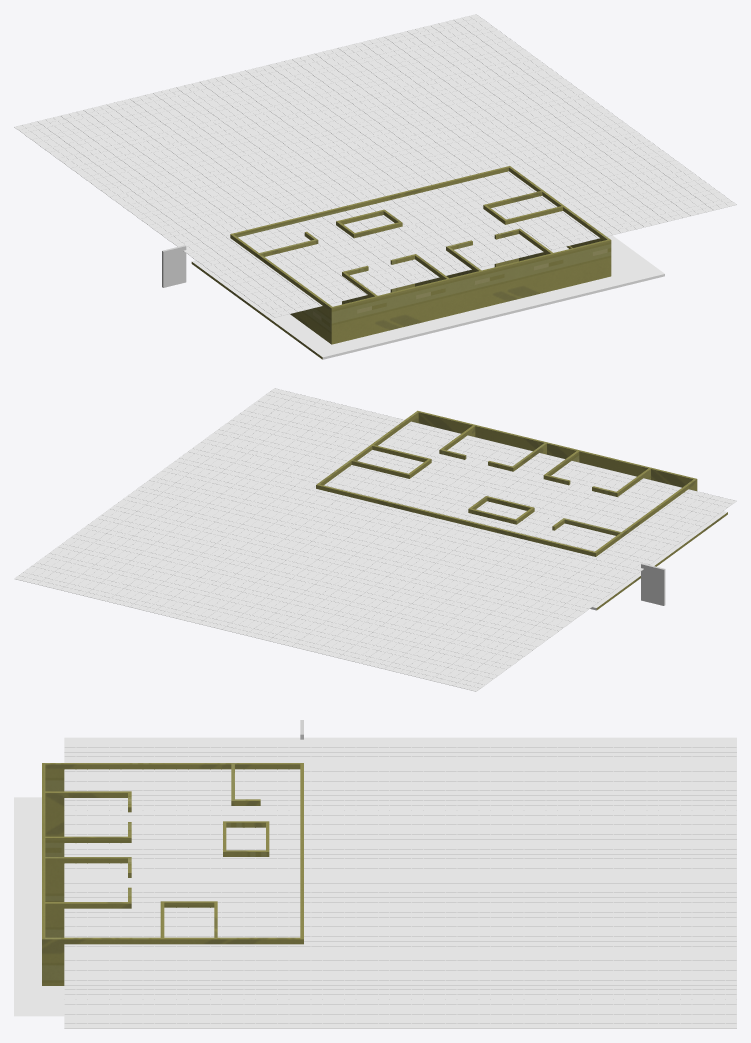
Rendered from backroom00.glb.
The picture shows the model from 3 angles, top to bottom: view 1: azimuth 30°, elevation 25°; view 2: azimuth 150°, elevation 25°; view 3: azimuth 270°, elevation 25°; orthographic projection. The views are drawn at different scales.
Parts seen in each view (by area): view 1: Cube.001, Cube.003, Cube.004, Cube; view 2: Cube.001, Cube.003, Cube, Cube.004; view 3: Cube.001, Cube.003, Cube.004.
Part boxes in pixels (x1,y1,x2,y2): Cube.001: [14, 14, 736, 317]; Cube.003: [191, 166, 611, 359]; Cube.004: [192, 235, 664, 359]; Cube: [162, 245, 186, 287]; Cube.001: [14, 388, 736, 691]; Cube.003: [316, 410, 727, 609]; Cube: [641, 563, 665, 605]; Cube.004: [590, 511, 727, 610]; Cube.001: [64, 737, 736, 1028]; Cube.003: [42, 763, 303, 985]; Cube.004: [14, 797, 64, 1016].
Bounding box in the file's own units: 41.71 × 3.2 × 41.96.
4 materials, 1 textured.
